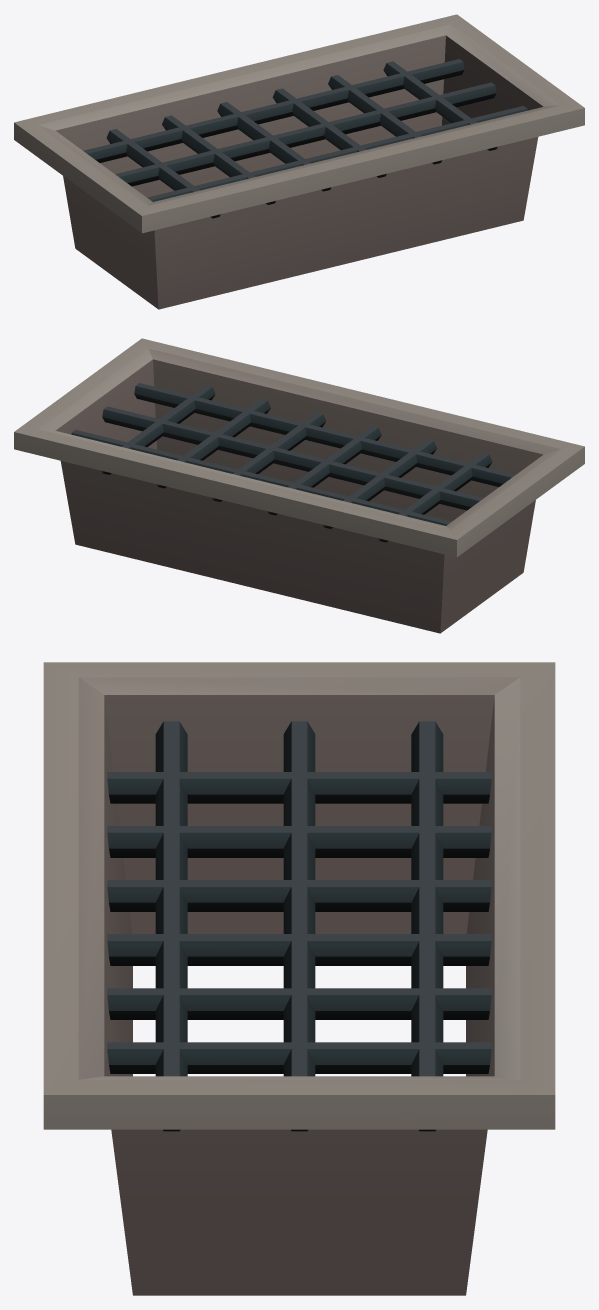
File: floor_tile_grate_open.obj
The picture shows the model from 3 angles, top to bottom: view 1: azimuth 30°, elevation 25°; view 2: azimuth 150°, elevation 25°; view 3: azimuth 270°, elevation 25°; orthographic projection. The views are drawn at different scales.
Parts seen in each view (by area): view 1: floor_tile_grate_open; view 2: floor_tile_grate_open; view 3: floor_tile_grate_open.
Boxes of the visible parts, x1,y1,x2,y2 form: floor_tile_grate_open: (14, 14, 584, 309); floor_tile_grate_open: (14, 338, 584, 633); floor_tile_grate_open: (43, 662, 555, 1295).
Bounding box in the file's own units: 4 × 1.03 × 2.
Materials: 1 (1 with a texture image).
